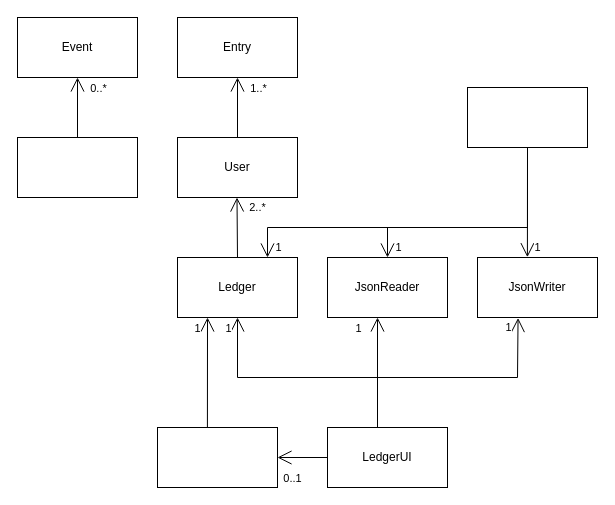
This 615x505 diagram has some shape labels left out. The shapes that lost their labels are listed below. From the top down, each one's centre as x and y in pixels, then its label:
point 527,117: LedgerApp
point 77,167: EventLog
point 217,457: PaymentDialog
